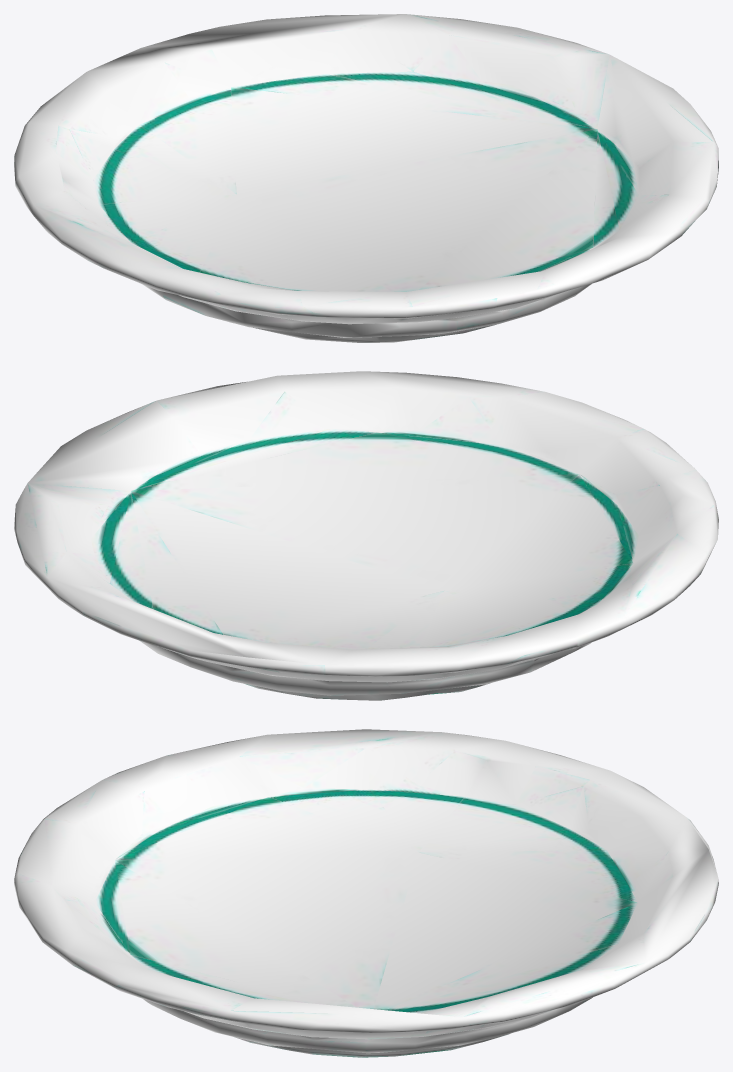
The model's file is plate.glb.
3 renders of one model, top to bottom at view 1: azimuth 30°, elevation 25°; view 2: azimuth 150°, elevation 25°; view 3: azimuth 270°, elevation 25°, orthographic.
Bounding box in the file's own units: 1.91 × 0.2789 × 1.91.
1 material, 1 textured.
